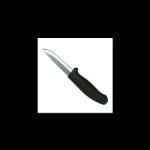Pisau: (42, 48, 110, 106)
